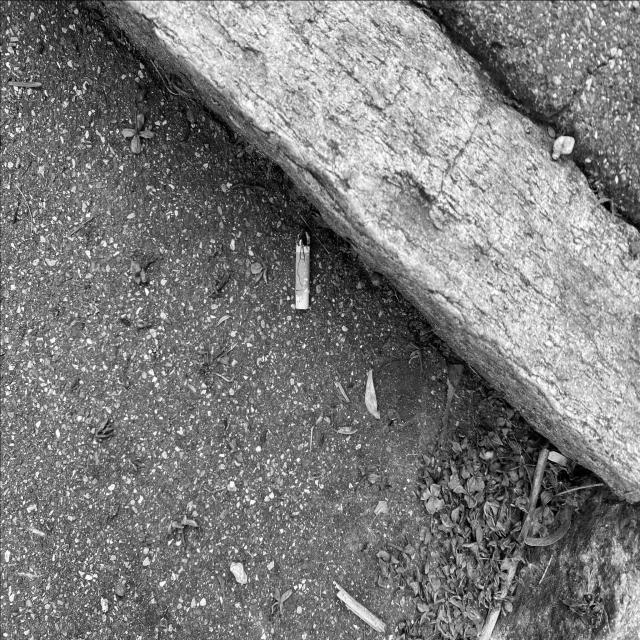other waste: (295, 228, 310, 310)
